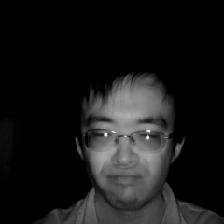sad: (65, 59, 188, 212)
